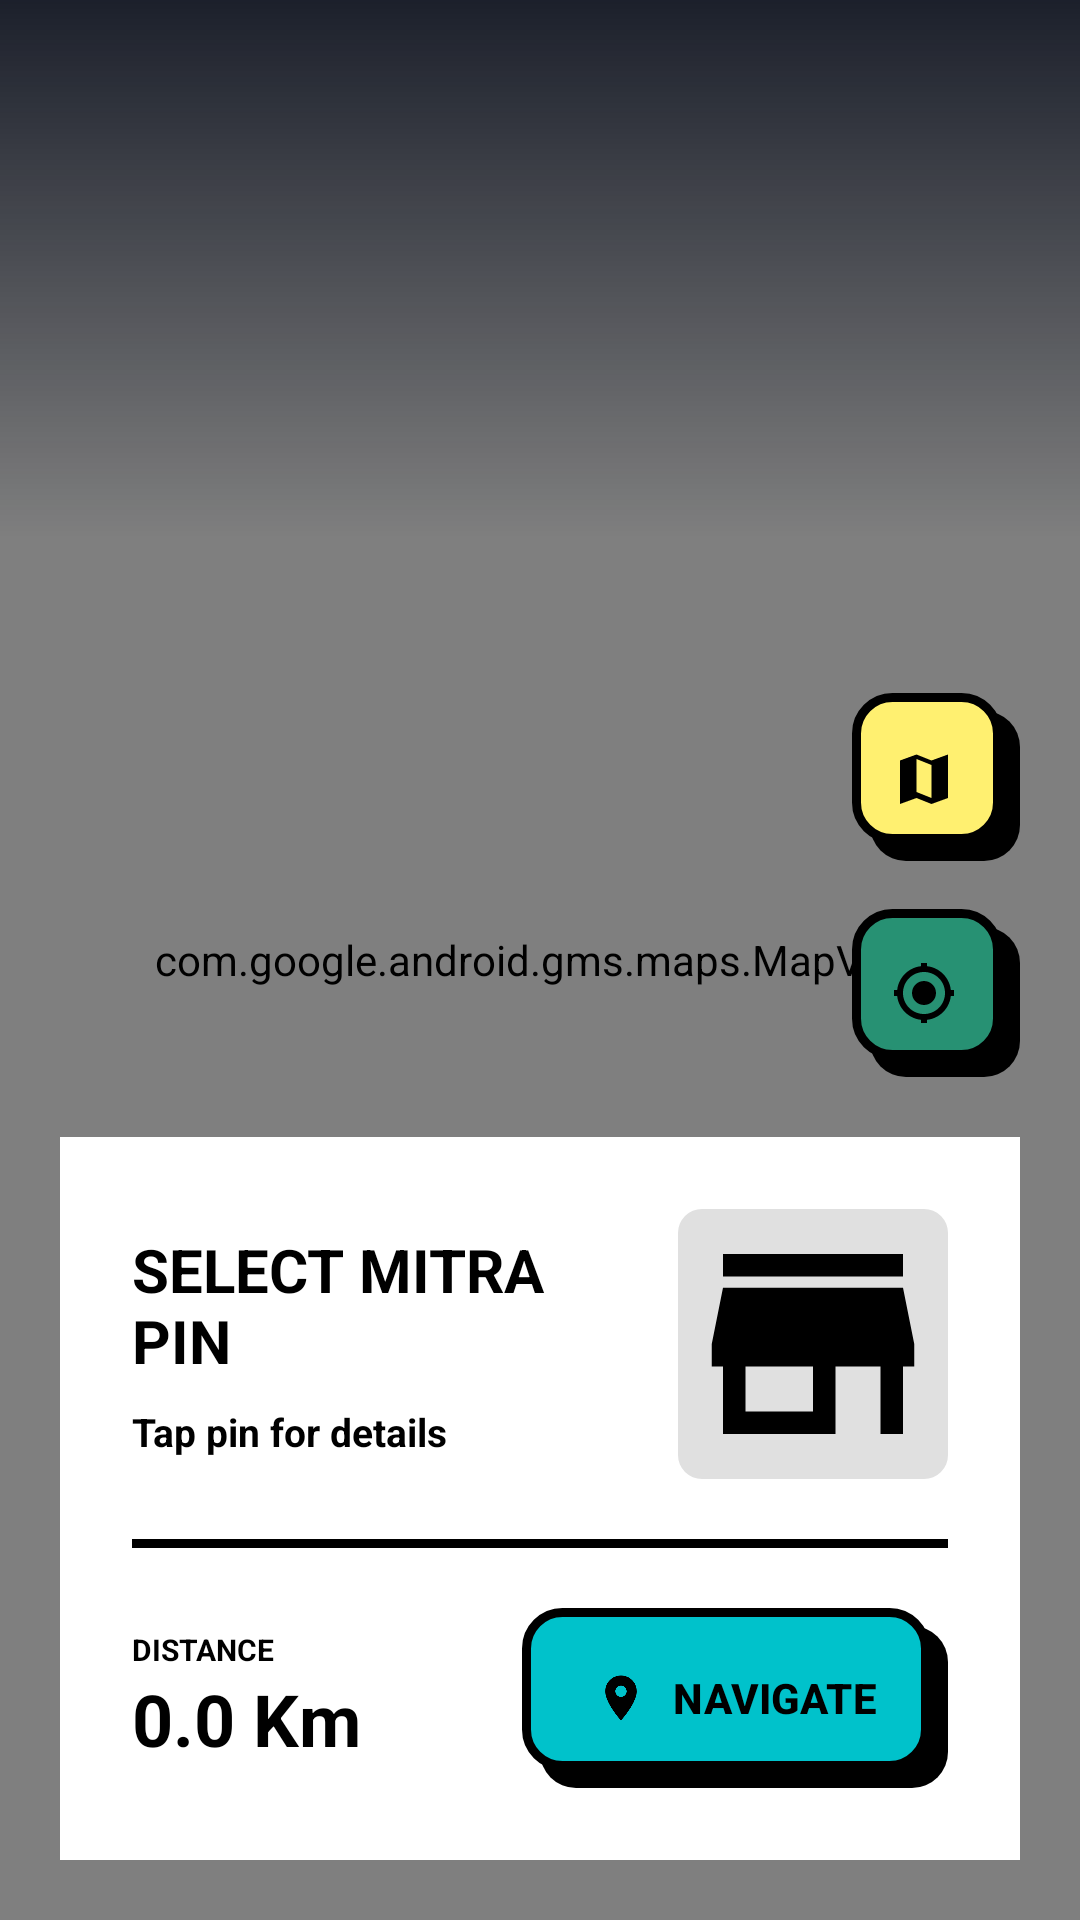

Where icons sit on this 1080 × 1920 app screen, as Rect(x1, y1, x2, y2):
location: Rect(852, 909, 1020, 1077)
map: Rect(852, 693, 1020, 861)
store: Rect(678, 1209, 948, 1479)
